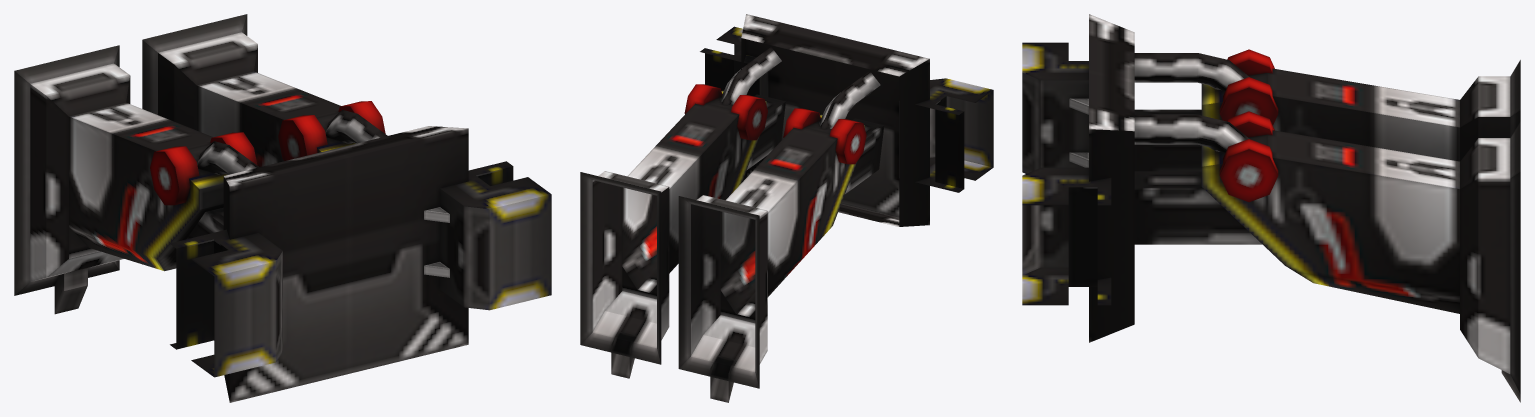
Rendered from datan_common_ss0_arm92_ons_787a65af.obj.
3 renders of one model, left to right at view 1: azimuth 30°, elevation 25°; view 2: azimuth 150°, elevation 25°; view 3: azimuth 270°, elevation 25°, orthographic. The views are drawn at different scales.
Parts seen in each view (by area): view 1: datan_common_ss0_arm92_ons_787a65af; view 2: datan_common_ss0_arm92_ons_787a65af; view 3: datan_common_ss0_arm92_ons_787a65af.
Part boxes in pixels (x1=…): datan_common_ss0_arm92_ons_787a65af: x1=14, y1=14, x2=551, y2=402; datan_common_ss0_arm92_ons_787a65af: x1=580, y1=14, x2=993, y2=402; datan_common_ss0_arm92_ons_787a65af: x1=1022, y1=14, x2=1520, y2=402.
Size of the model in its own units: 0.7075 by 0.5976 by 0.9162.
Materials: 1 (1 with a texture image).
